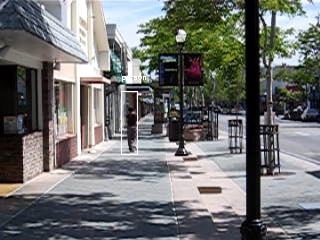person: (126, 106, 141, 153), (125, 106, 140, 153), (127, 106, 142, 153), (126, 105, 141, 152), (126, 107, 141, 154)
target_negative: (2, 85, 284, 185), (221, 14, 309, 231), (51, 135, 164, 238), (293, 26, 316, 74), (77, 137, 79, 235)
